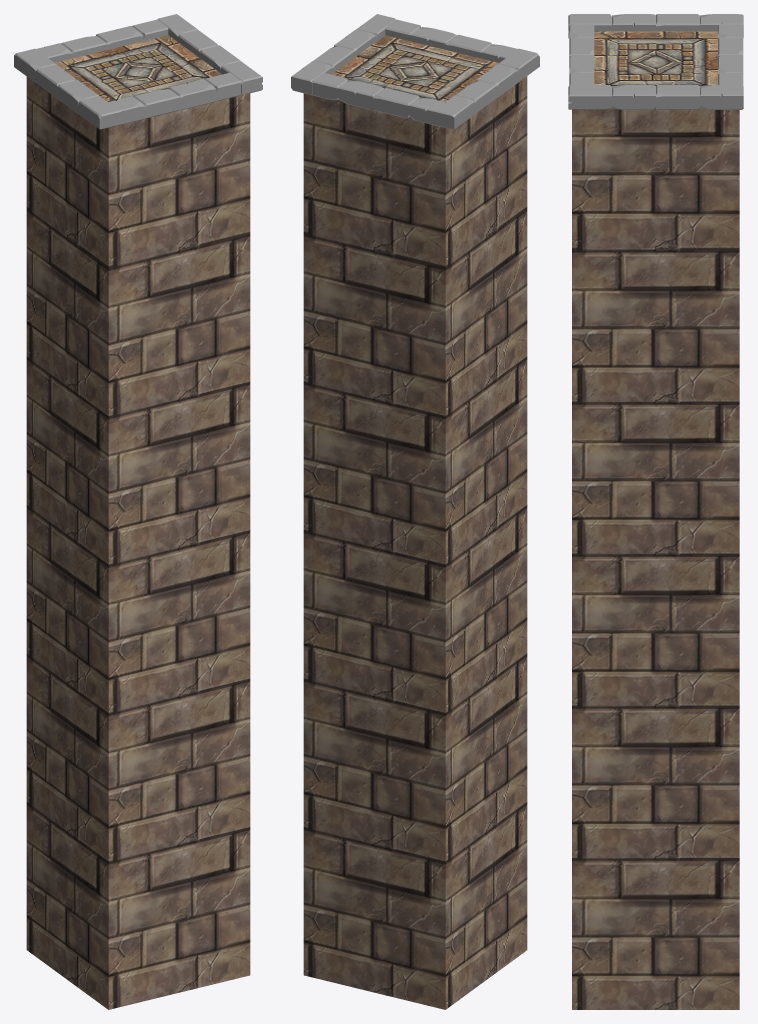
File: 谜题柱.fbx
3 views of the same model, side by side, from view 1: azimuth 30°, elevation 25°; view 2: azimuth 150°, elevation 25°; view 3: azimuth 270°, elevation 25° (orthographic). The views are drawn at different scales.
Visible parts, largest first — view 1: Cube.753, Cube.755, Cube.756, Cube.754, Cube.757; view 2: Cube.753, Cube.755, Cube.757, Cube.754, Cube.756; view 3: Cube.753, Cube.754, Cube.755, Cube.757, Cube.756.
Part boxes in pixels (x1=…): Cube.753: x1=26, y1=35, x2=250, y2=1009; Cube.755: x1=14, y1=48, x2=120, y2=129; Cube.756: x1=108, y1=72, x2=242, y2=125; Cube.754: x1=158, y1=14, x2=262, y2=94; Cube.757: x1=36, y1=19, x2=168, y2=62; Cube.753: x1=303, y1=35, x2=527, y2=1009; Cube.755: x1=433, y1=48, x2=539, y2=129; Cube.757: x1=312, y1=72, x2=444, y2=126; Cube.754: x1=291, y1=14, x2=395, y2=95; Cube.756: x1=385, y1=19, x2=517, y2=62; Cube.753: x1=572, y1=31, x2=739, y2=1009; Cube.754: x1=568, y1=85, x2=743, y2=109; Cube.755: x1=568, y1=14, x2=743, y2=38; Cube.757: x1=718, y1=23, x2=743, y2=85; Cube.756: x1=569, y1=24, x2=594, y2=85.
Size of the model in its own units: 230 by 1210 by 209.
